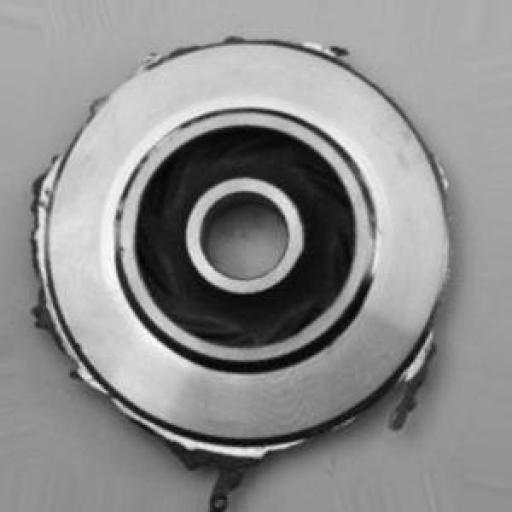defect: (22, 23, 480, 504)
